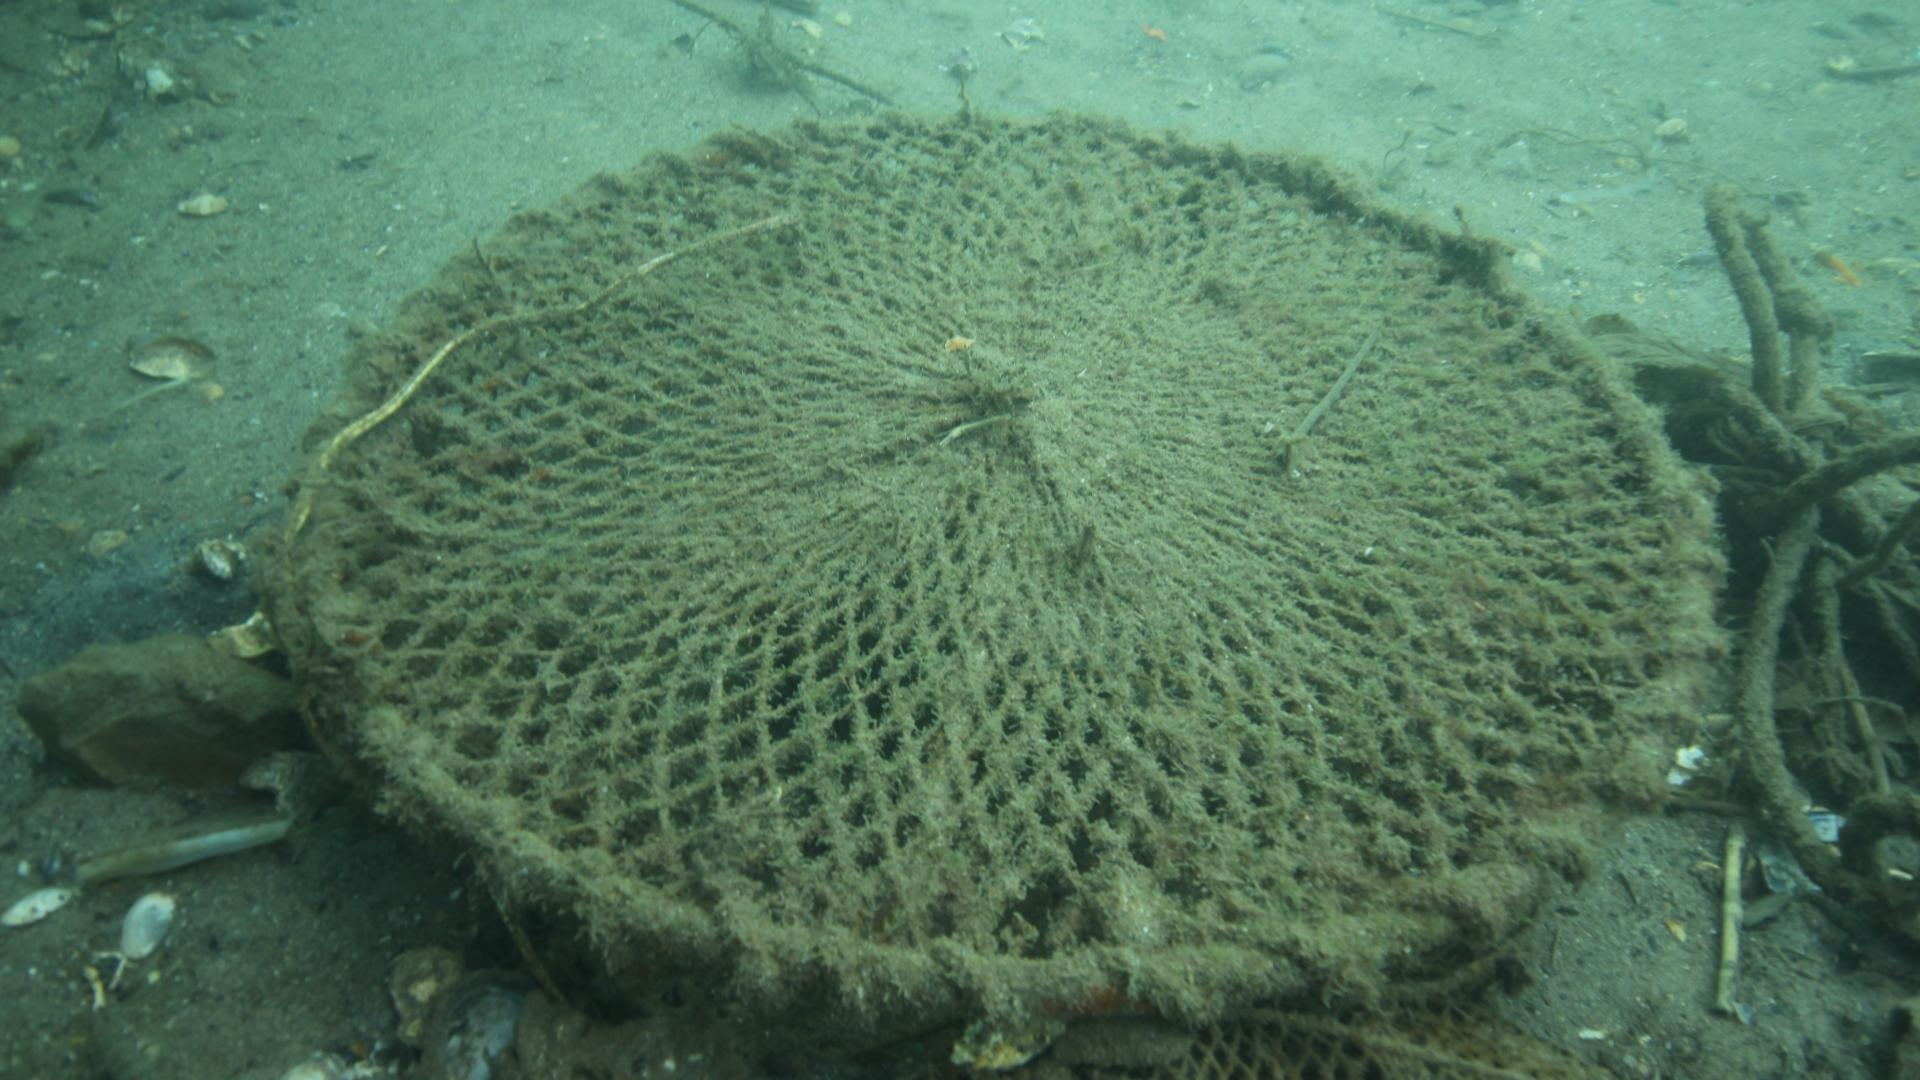circular fish trap: (262, 104, 1725, 1027)
